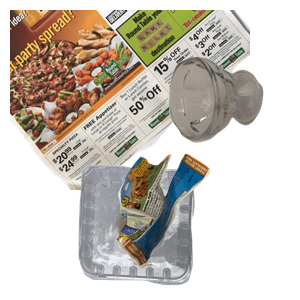glass: (166, 54, 300, 189)
paper: (10, 10, 250, 190)
plastic: (76, 162, 264, 300)
trash: (114, 151, 300, 300)
